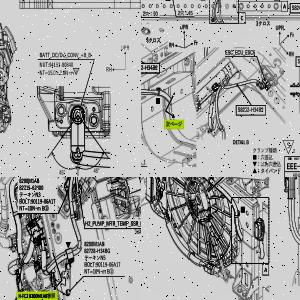PartNumber: (238, 106, 264, 113), (49, 61, 74, 68), (31, 198, 56, 205), (19, 184, 44, 191), (84, 248, 110, 254), (96, 262, 121, 268), (141, 64, 157, 70), (291, 4, 300, 11)
